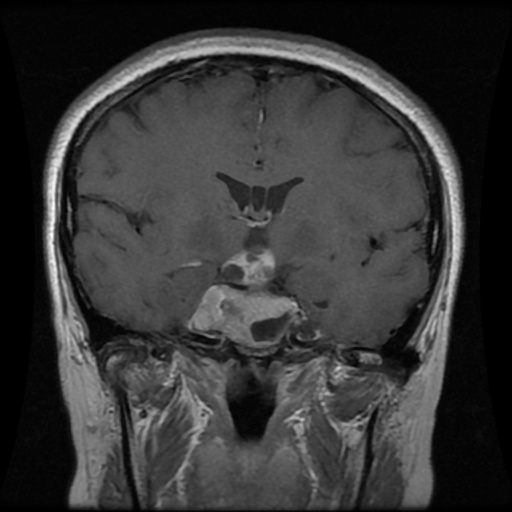pituitary: (188, 244, 291, 342)
